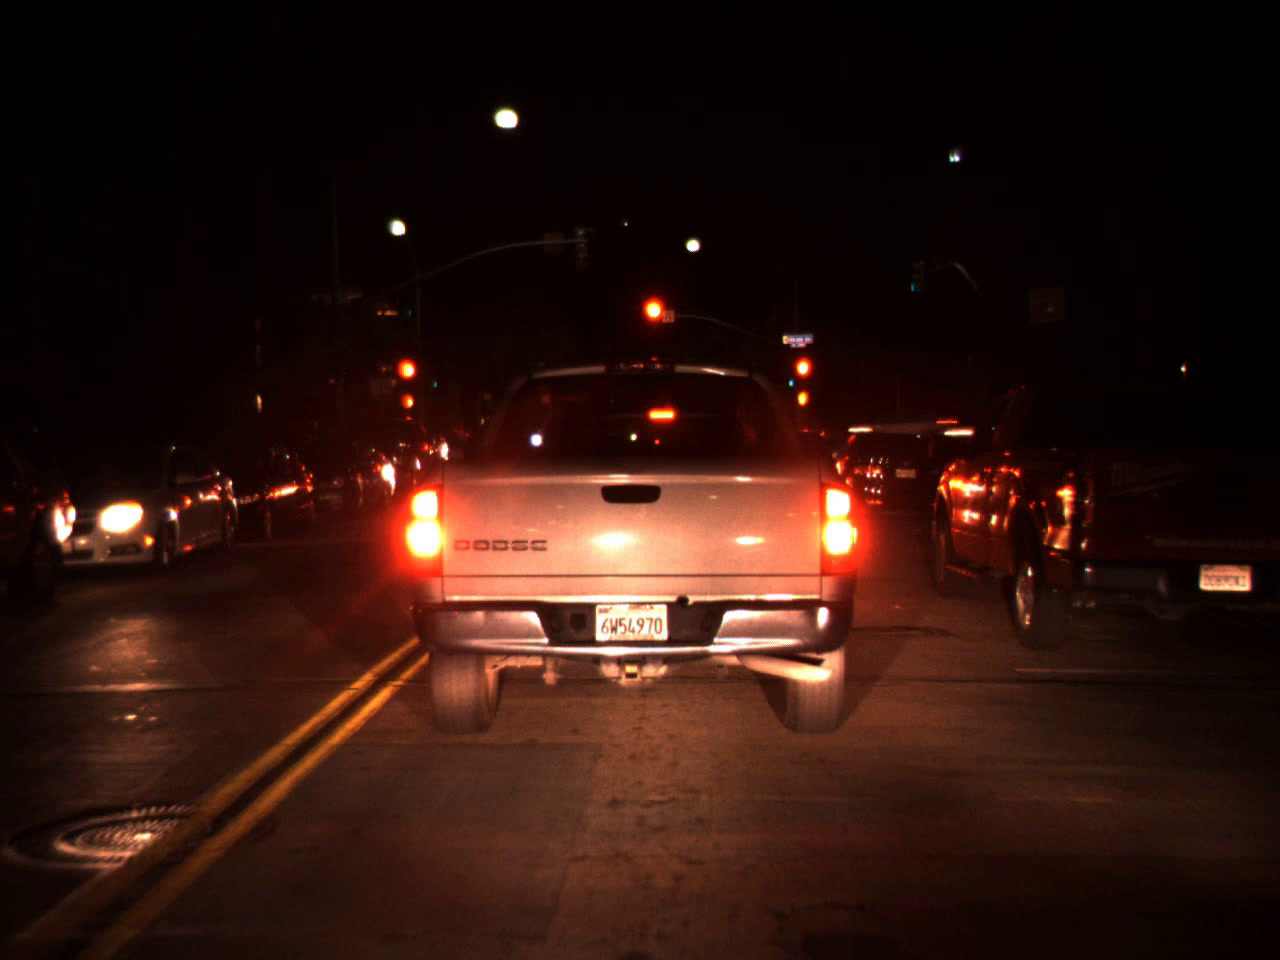stop: (638, 292, 671, 356), (393, 355, 420, 406), (792, 353, 814, 404)
